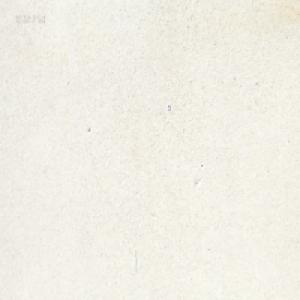Washer: (167, 103, 170, 111)
